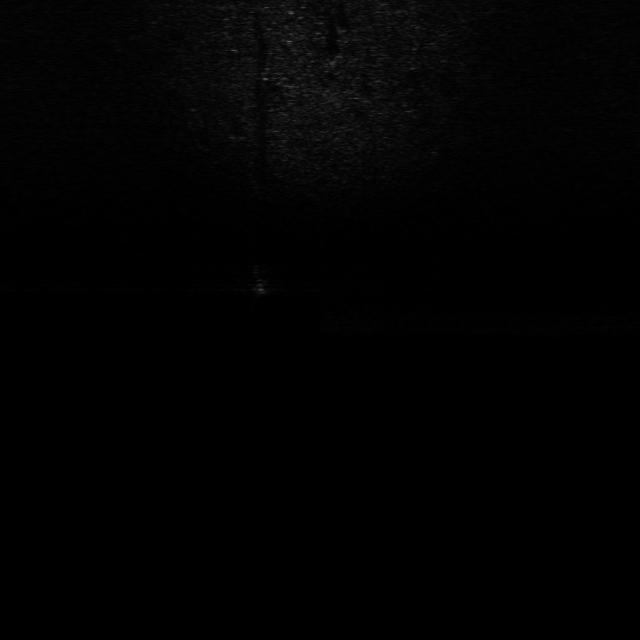human body: (248, 260, 274, 303)
